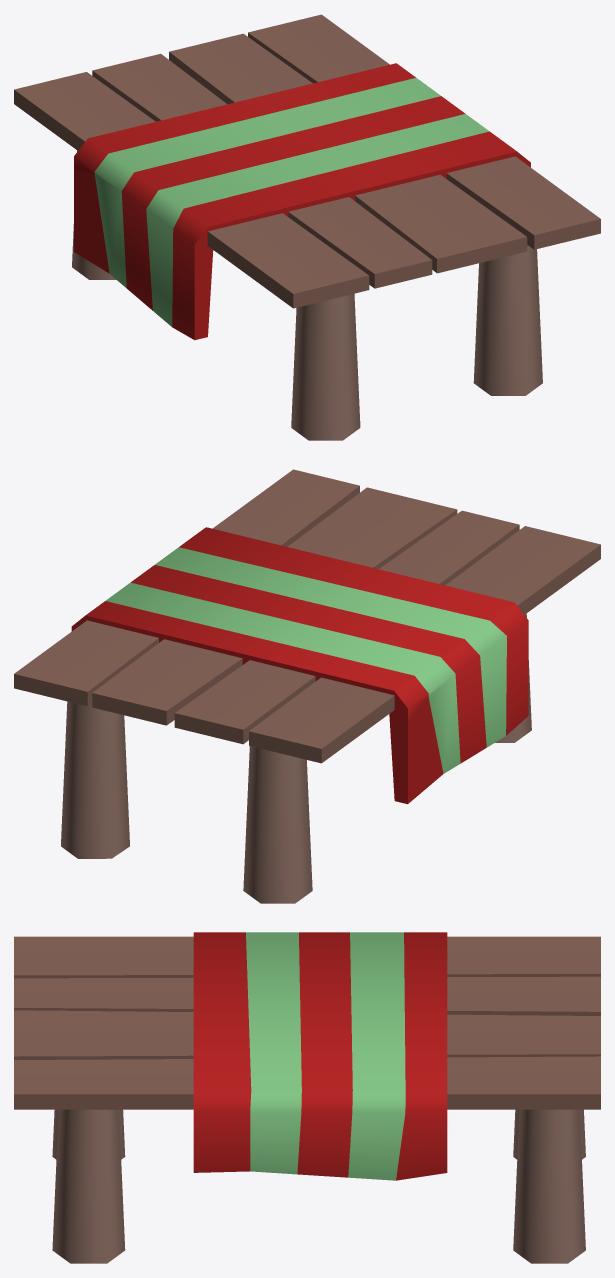
Rendered from table_001.glb.
3 renders of one model, top to bottom at view 1: azimuth 30°, elevation 25°; view 2: azimuth 150°, elevation 25°; view 3: azimuth 270°, elevation 25°, orthographic. The views are drawn at different scales.
Visible parts, largest first — view 1: table_001; view 2: table_001; view 3: table_001.
Part boxes in pixels (left/top/right/bottom): table_001: left=14, top=14, right=600, bottom=440; table_001: left=14, top=469, right=600, bottom=903; table_001: left=14, top=932, right=600, bottom=1263.
Bounding box in the file's own units: 1.51 × 0.7762 × 2.17.
Materials: 1 (1 with a texture image).
